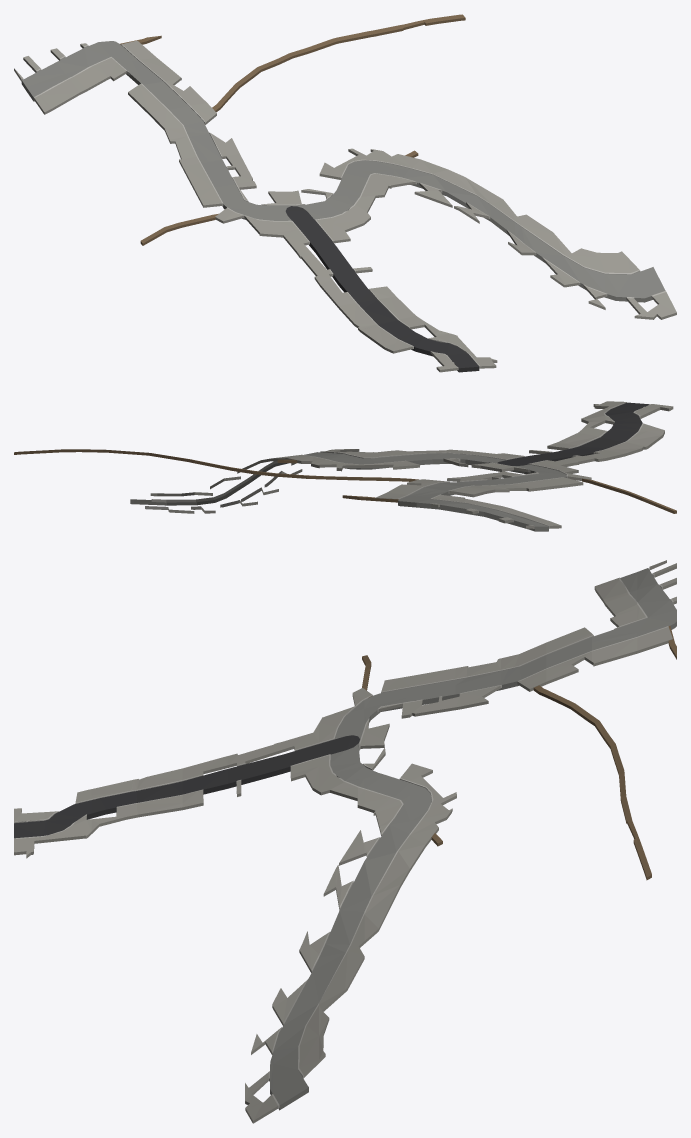
The picture shows the model from 3 angles, top to bottom: view 1: azimuth 30°, elevation 25°; view 2: azimuth 150°, elevation 25°; view 3: azimuth 270°, elevation 25°; orthographic projection. The views are drawn at different scales.
Bounding box in the file's own units: 147 × 69.84 × 146.
